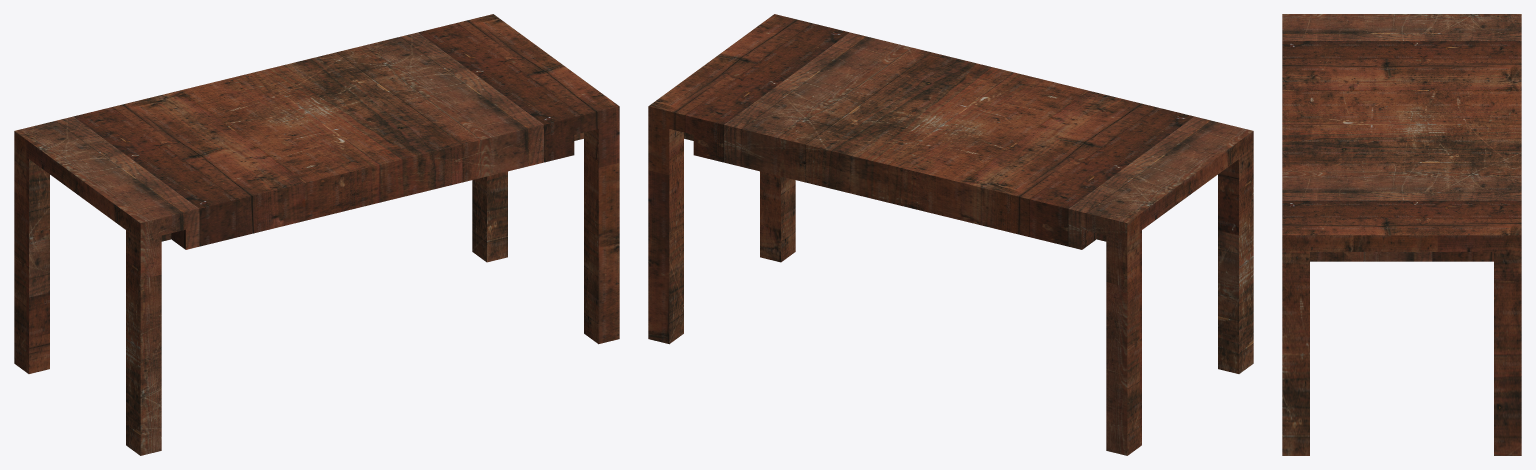
The model's file is Mesa.fbx.
3 views of the same model, side by side, from view 1: azimuth 30°, elevation 25°; view 2: azimuth 150°, elevation 25°; view 3: azimuth 270°, elevation 25° (orthographic). The views are drawn at different scales.
Parts seen in each view (by area): view 1: pCube6; view 2: pCube6; view 3: pCube6.
Boxes of the visible parts, x1,y1,x2,y2 form: pCube6: (14,14,619,455); pCube6: (648,14,1253,455); pCube6: (1282,14,1521,455).
Size of the model in its own units: 8.77 by 4.07 by 4.
1 material, 1 textured.
